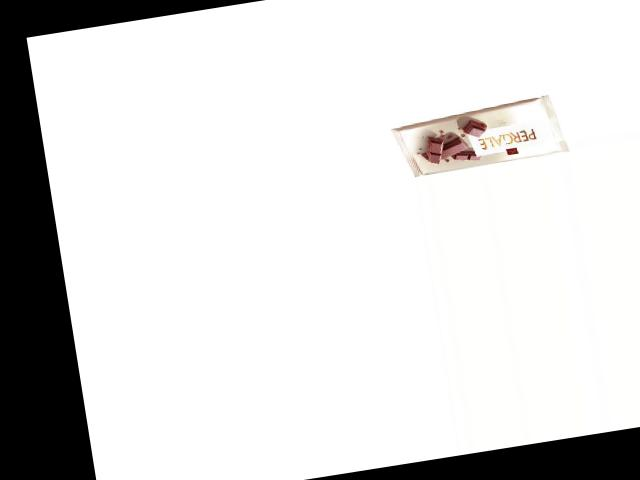chocolate: (386, 94, 571, 179)
